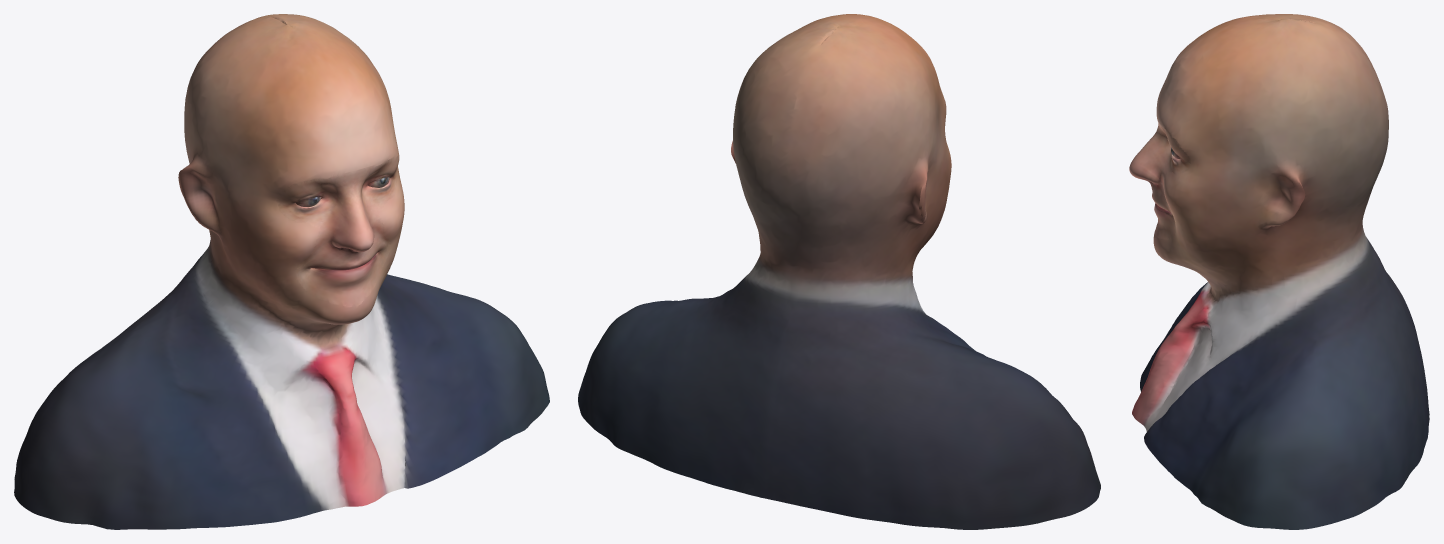
File: monster.glb
The picture shows the model from 3 angles, left to right: view 1: azimuth 30°, elevation 25°; view 2: azimuth 150°, elevation 25°; view 3: azimuth 270°, elevation 25°; orthographic projection. The views are drawn at different scales.
Visible parts, largest first — view 1: Object_2; view 2: Object_2; view 3: Object_2.
Part boxes in pixels (x1=…): Object_2: x1=14, y1=14, x2=549, y2=529; Object_2: x1=578, y1=14, x2=1100, y2=529; Object_2: x1=1129, y1=14, x2=1429, y2=529.
Size of the model in its own units: 0.4722 by 0.3723 by 0.2553.
Materials: 1 (1 with a texture image).
